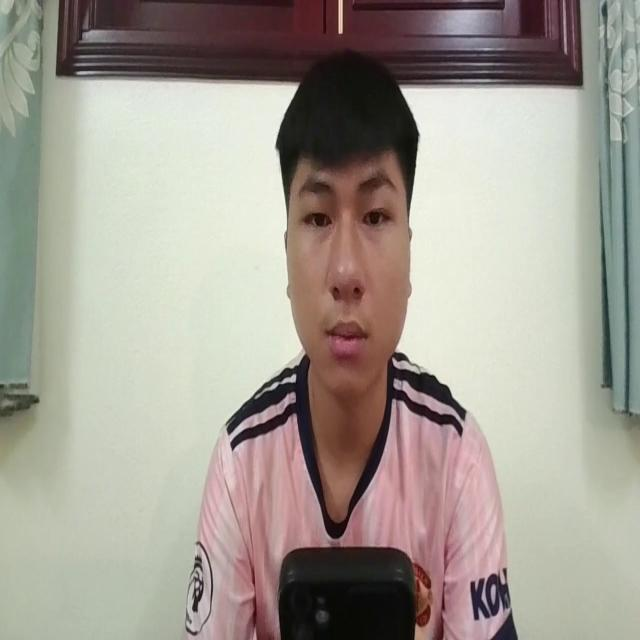phone: (275, 539, 412, 640)
student: (189, 50, 515, 640)
